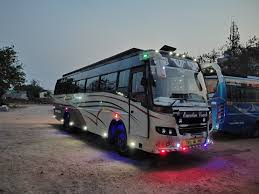bus: (52, 44, 211, 155), (199, 72, 259, 136)
